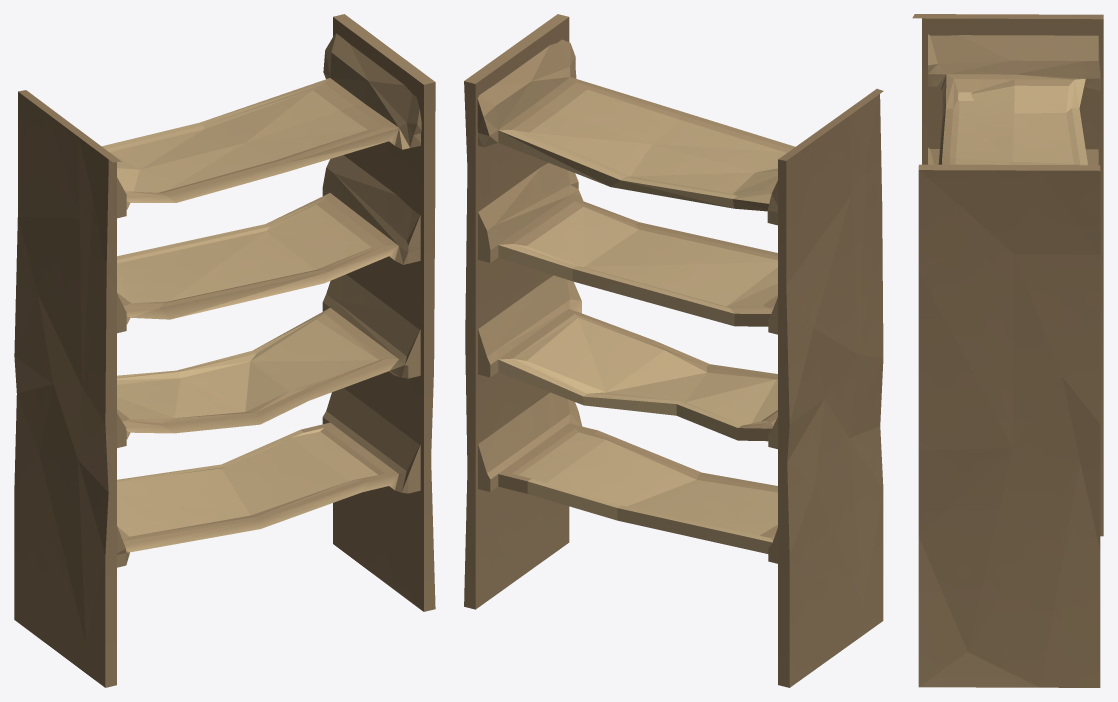
Rendered from shelf_2.obj.
The picture shows the model from 3 angles, left to right: view 1: azimuth 30°, elevation 25°; view 2: azimuth 150°, elevation 25°; view 3: azimuth 270°, elevation 25°; orthographic projection.
Parts seen in each view (by area): view 1: shelf_2_Material; view 2: shelf_2_Material; view 3: shelf_2_Material.
Part boxes in pixels (<box>): shelf_2_Material: <box>14,14,435,687</box>; shelf_2_Material: <box>464,14,883,687</box>; shelf_2_Material: <box>912,14,1103,687</box>.
Bounding box in the file's own units: 1.2 × 1.84 × 0.6172.
